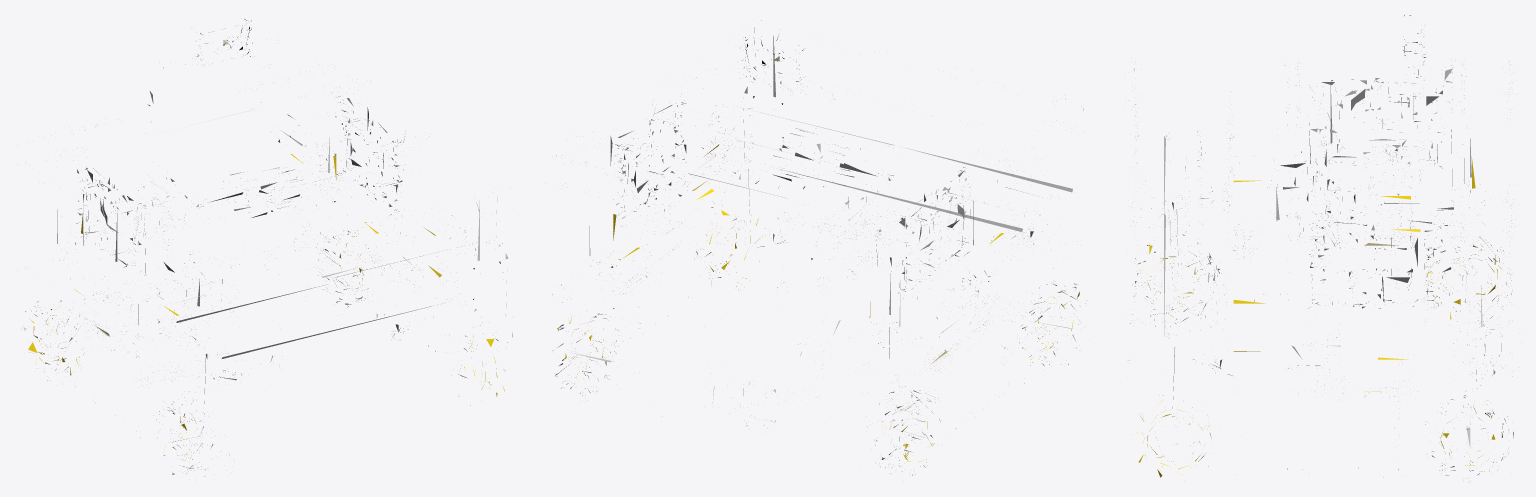
The model's file is Assembly 1 - Decode-fresh-low.glb.
3 views of the same model, side by side, from view 1: azimuth 30°, elevation 25°; view 2: azimuth 150°, elevation 25°; view 3: azimuth 270°, elevation 25° (orthographic). The views are drawn at different scales.
Parts seen in each view (by area): view 1: world; view 2: world; view 3: world.
Boxes of the visible parts, x1,y1,x2,y2 form: world: (17,18,512,476); world: (552,19,1085,475); world: (1125,15,1518,477).
Size of the model in its own units: 0.4411 by 0.4269 by 0.4125.
